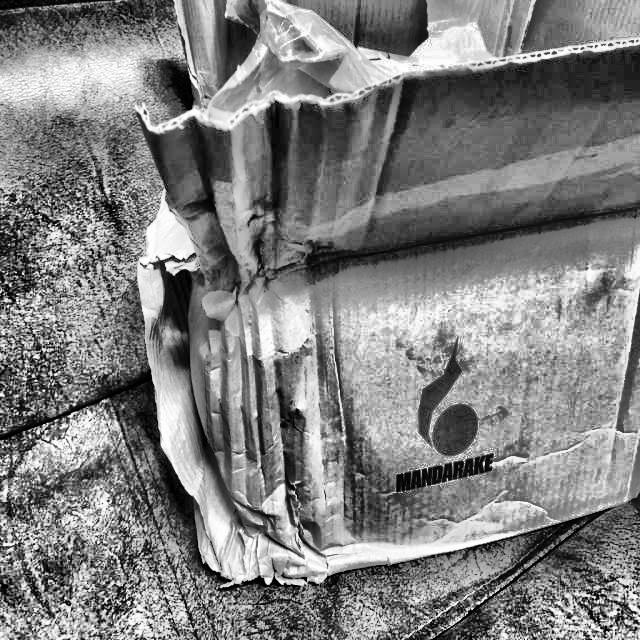box: (126, 0, 640, 590)
hole: (148, 258, 270, 574)
